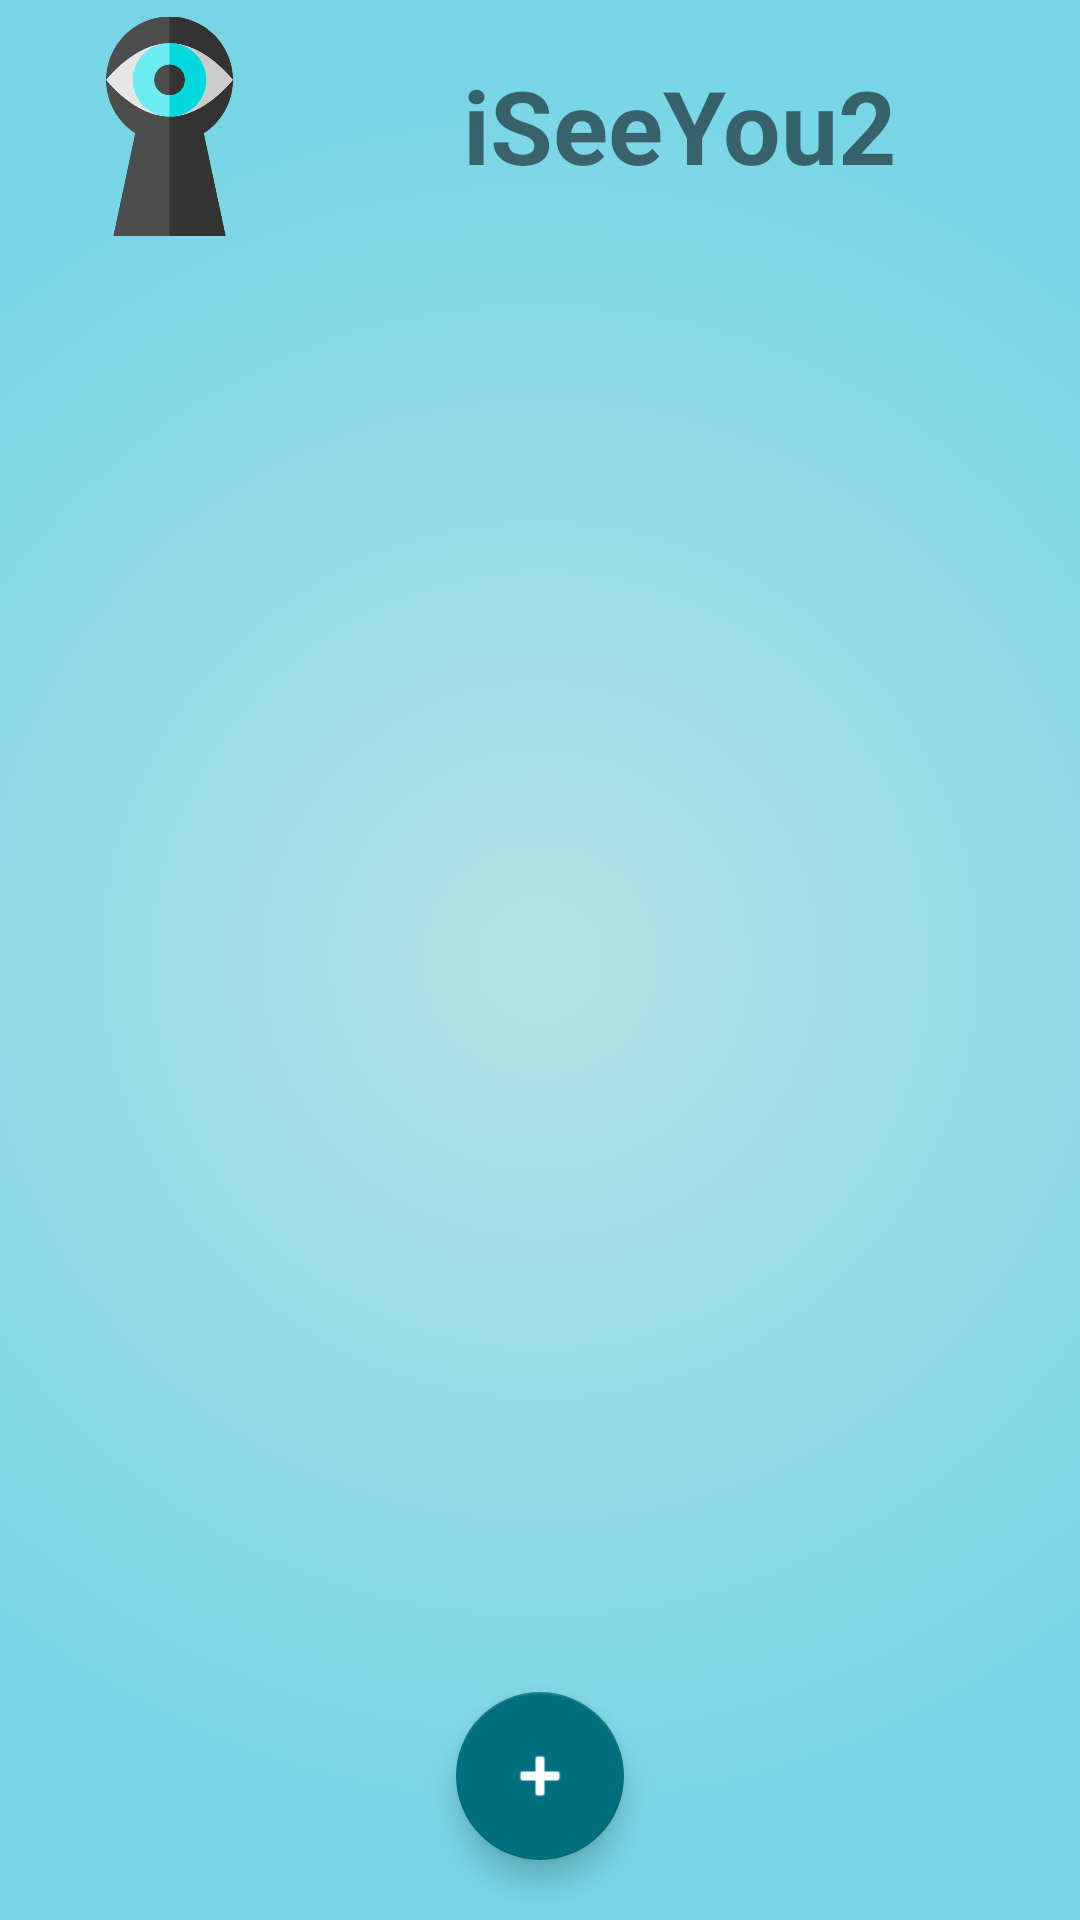

Point at icon controls on the screen. Image size 1080x1920, points as (x=x, y=y).
add: (x=540, y=1776)
